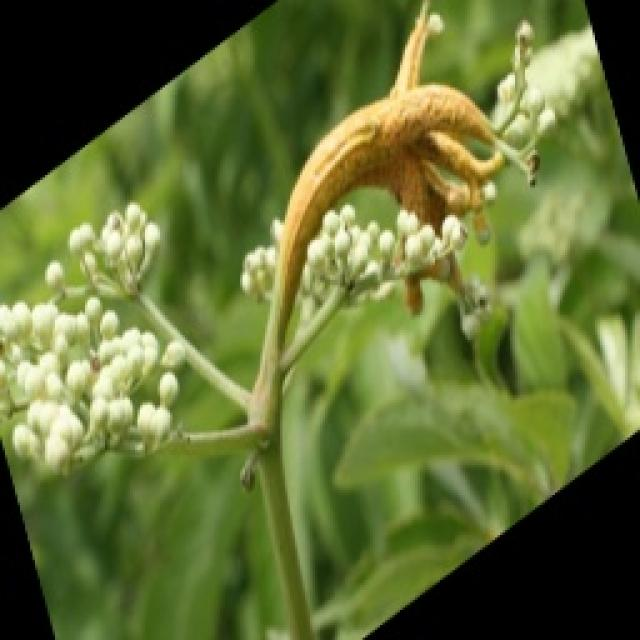Elderberry_rust: (263, 55, 548, 298)
